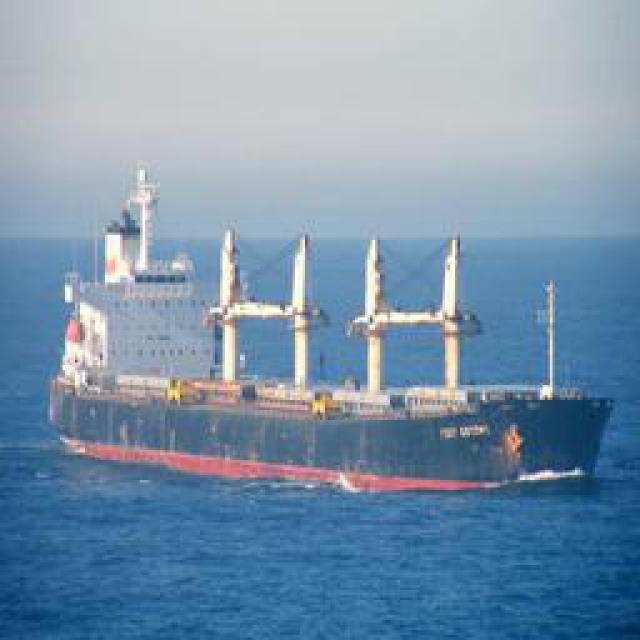Ship: (57, 215, 615, 495)
